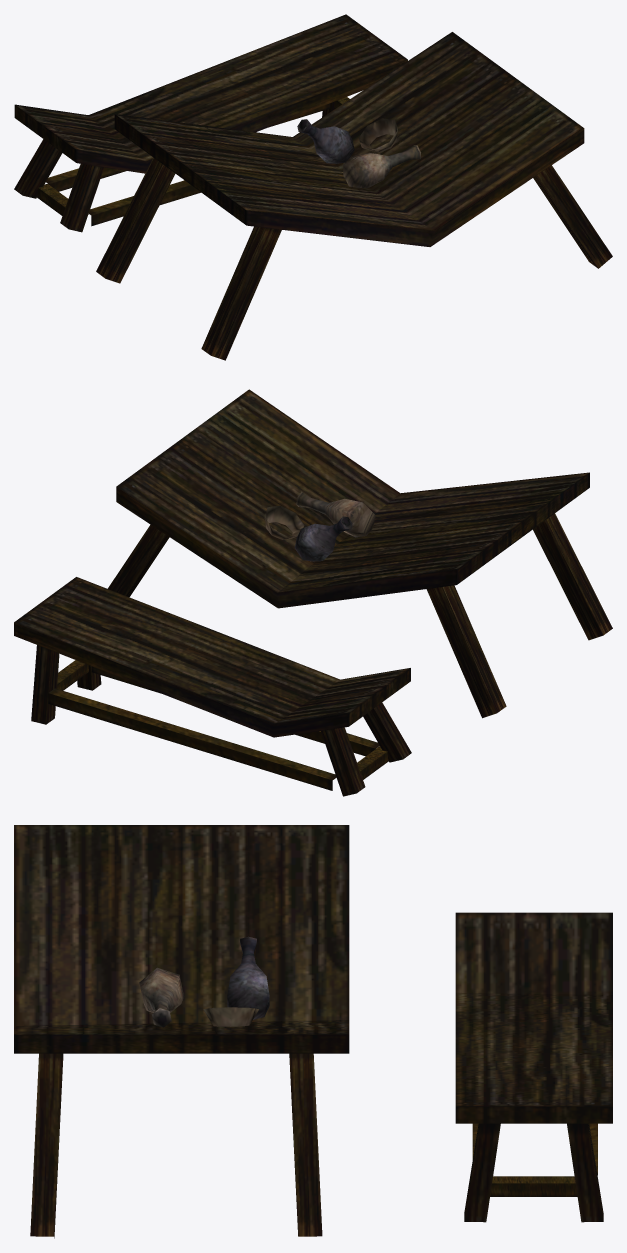
3 views of the same model, one above another, from view 1: azimuth 30°, elevation 25°; view 2: azimuth 150°, elevation 25°; view 3: azimuth 270°, elevation 25° (orthographic). The views are drawn at different scales.
Parts seen in each view (by area): view 1: Sphere01; view 2: Sphere01; view 3: Sphere01.
Part boxes in pixels (x1=…): Sphere01: x1=14, y1=14, x2=612, y2=360; Sphere01: x1=14, y1=389, x2=612, y2=796; Sphere01: x1=14, y1=825, x2=612, y2=1238.
Bounding box in the file's own units: 2.44 × 0.9 × 2.48.
Materials: 1 (1 with a texture image).
